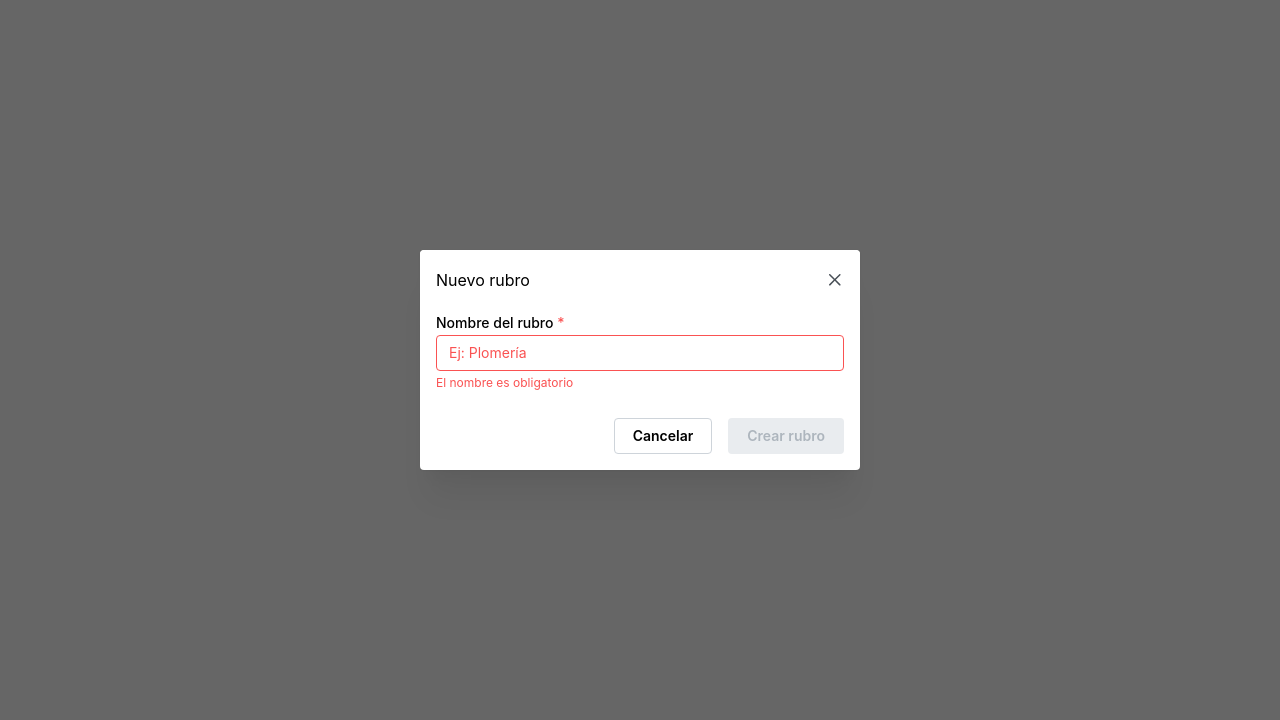
Scenario: ModalServicio › muestra error de duplicado si el nombre ya existe
Step 1. Type "Plomería" into the field labelled "Nombre del rubro *" → (640, 353), box [436,335,844,371]
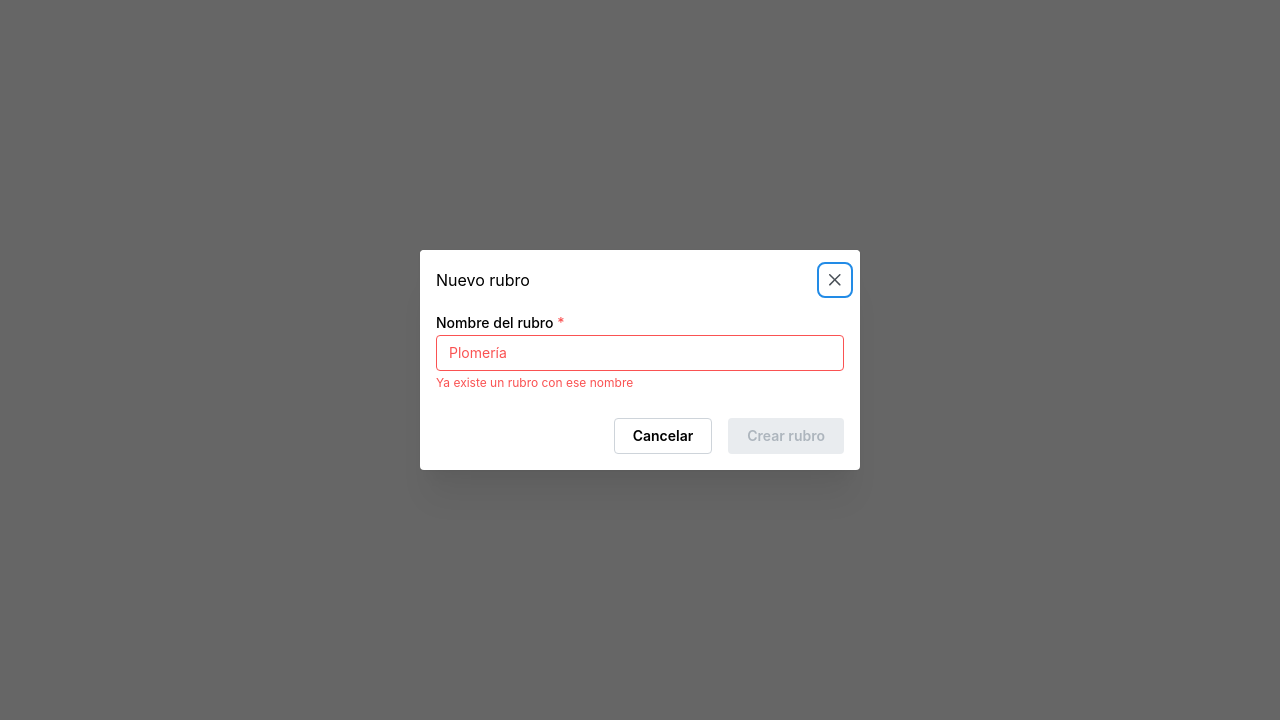
Expected: the button "Crear rubro" is disabled, [728,418,844,454]
Result: the text "Ya existe un rubro con ese nombre" is shown at [436,375,633,390]
